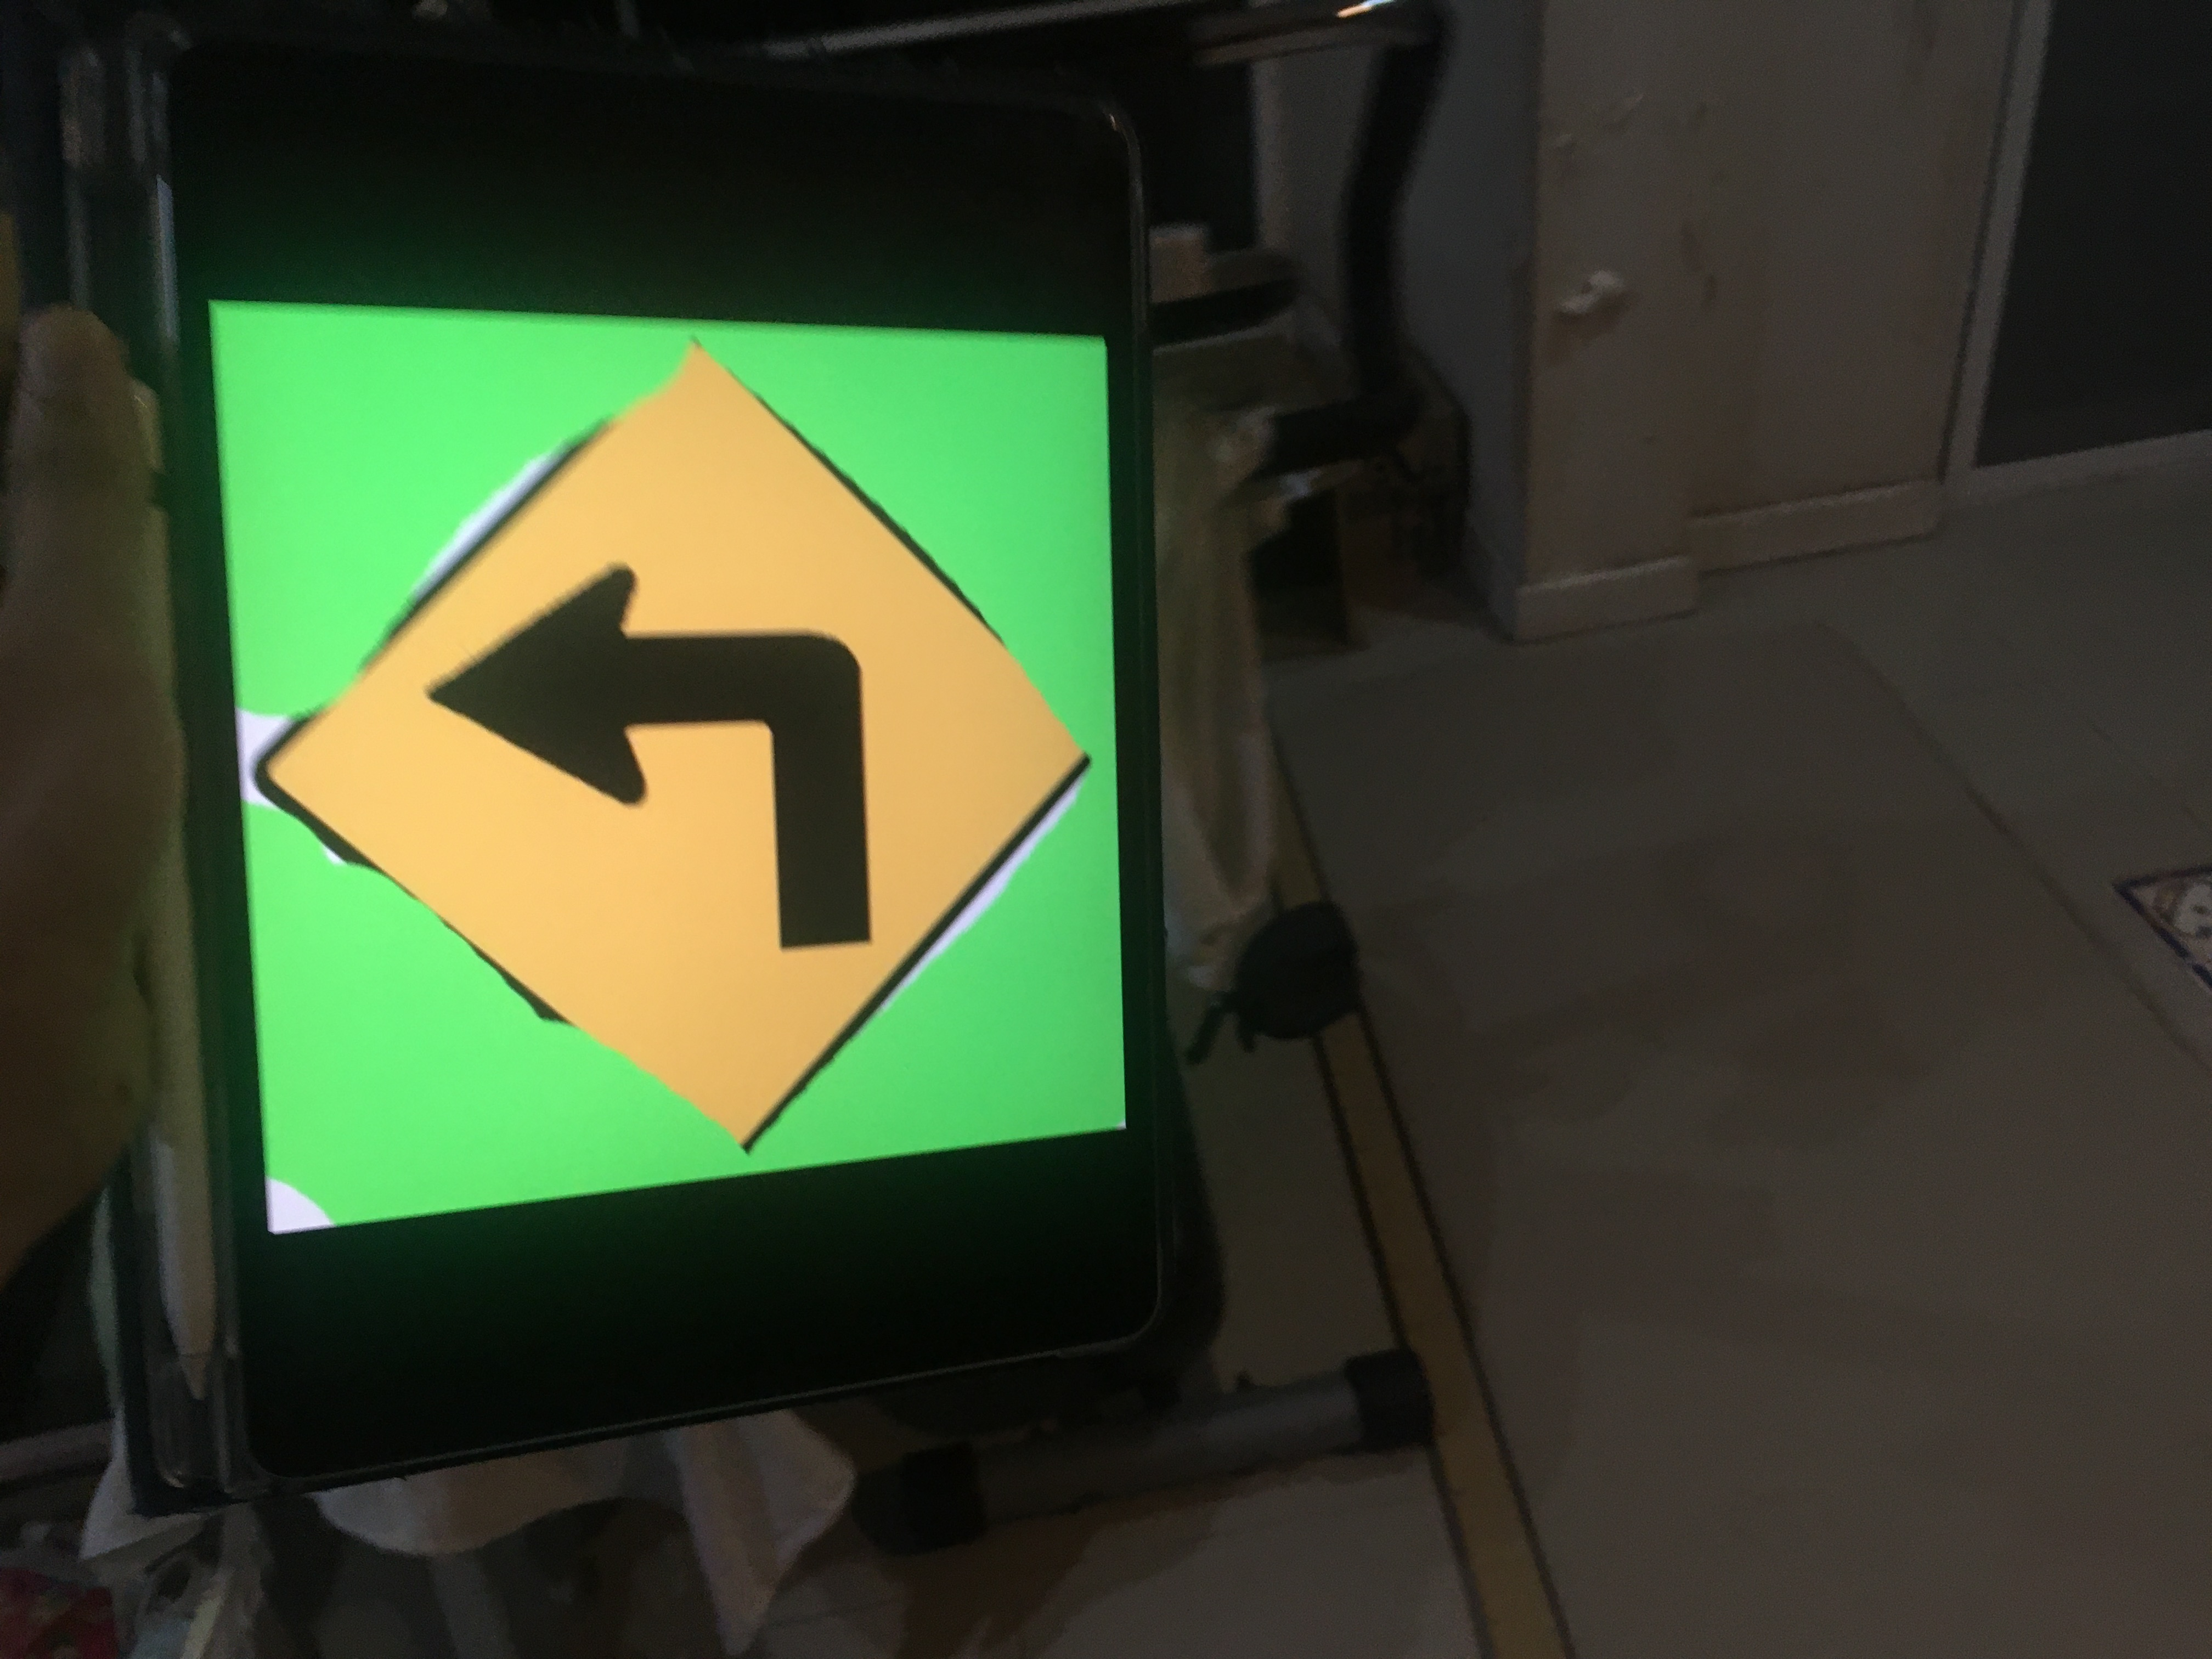left: (249, 310, 1090, 1164)
